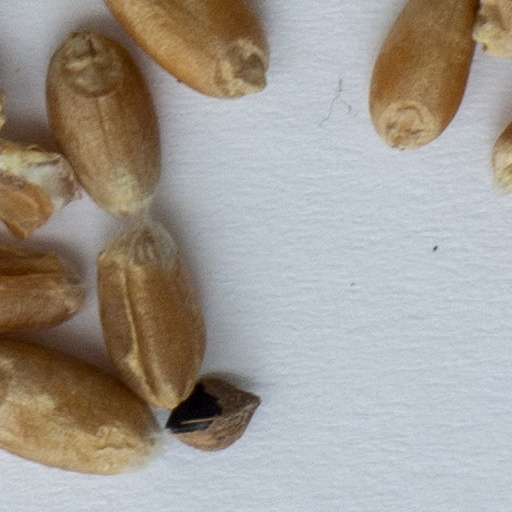Fallopia-Convolvulus-poly: (167, 376, 257, 450)
Wheat-grain-damaged-poly: (0, 142, 78, 237)
